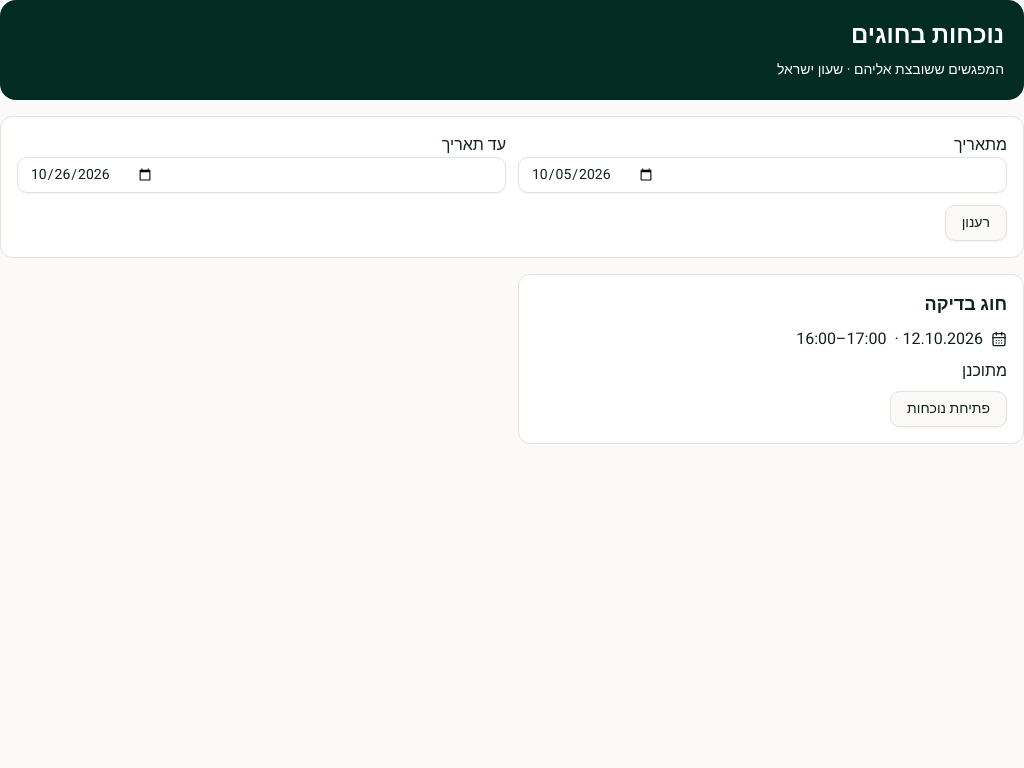
Test: reassignment denial clears previously displayed roster
This screenshot has width=1024, height=768.
Click the button "פתיחת נוכחות" at (949, 409), box left=890, top=391, right=1007, bottom=427
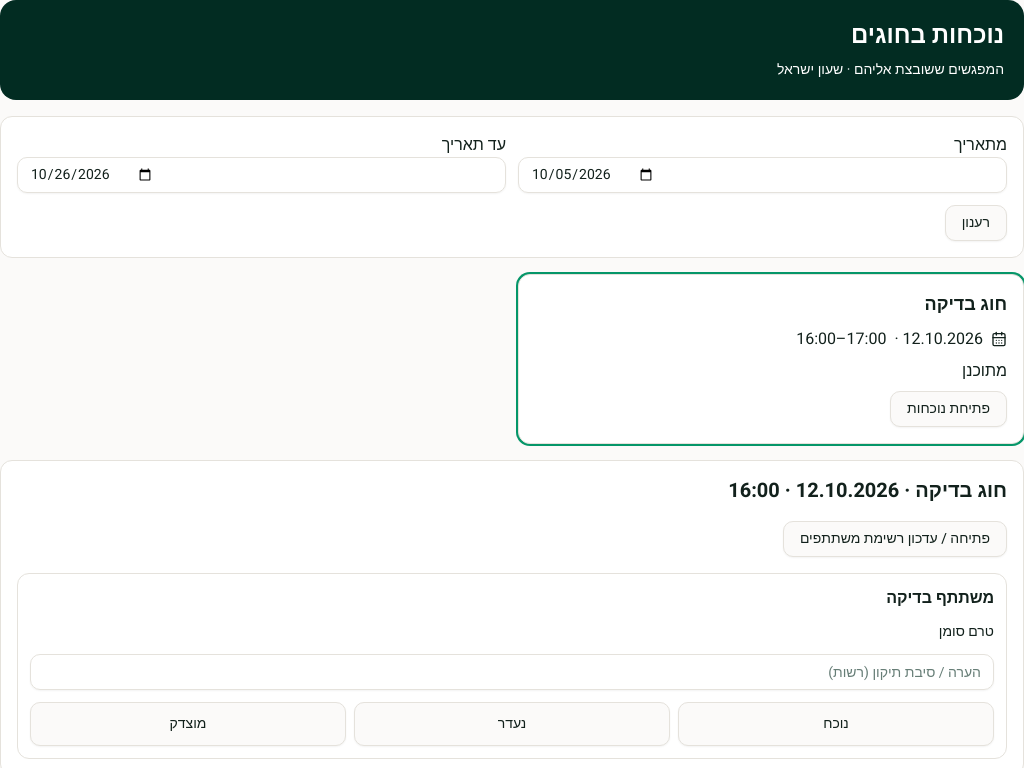
Result: the heading "משתתף בדיקה" is shown at left=886, top=586, right=994, bottom=610
Click the button "רענון" at (976, 223), box left=945, top=205, right=1007, bottom=241
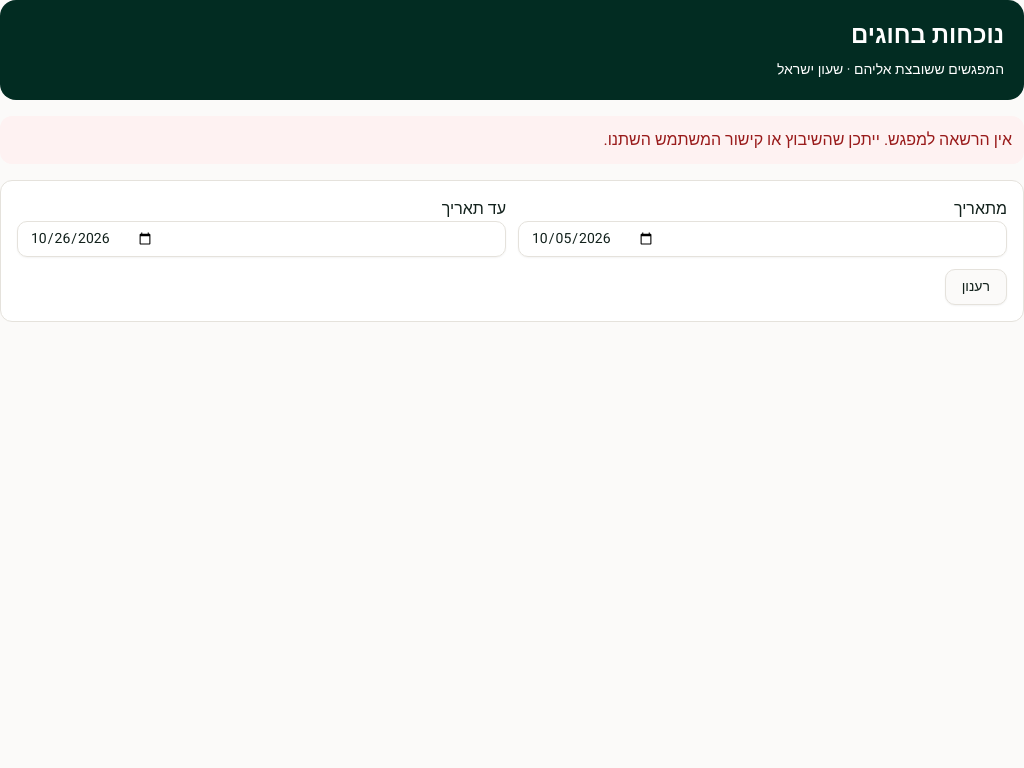
Result: the message "אין הרשאה למפגש. ייתכן שהשיבוץ או קישור המשתמש השתנו." is shown at left=0, top=116, right=1023, bottom=164
Result: the heading "משתתף בדיקה" is gone
